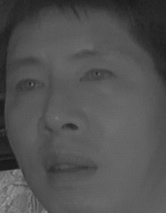eye: (77, 67, 116, 88), (12, 73, 46, 95)
mouth: (41, 153, 100, 182)
